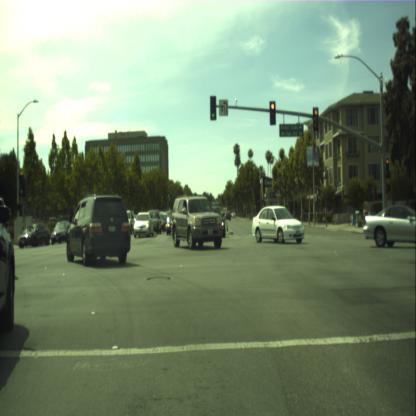GreenLeft: (209, 95, 216, 119)
Red: (269, 100, 275, 124), (312, 106, 318, 129), (384, 156, 390, 178)
